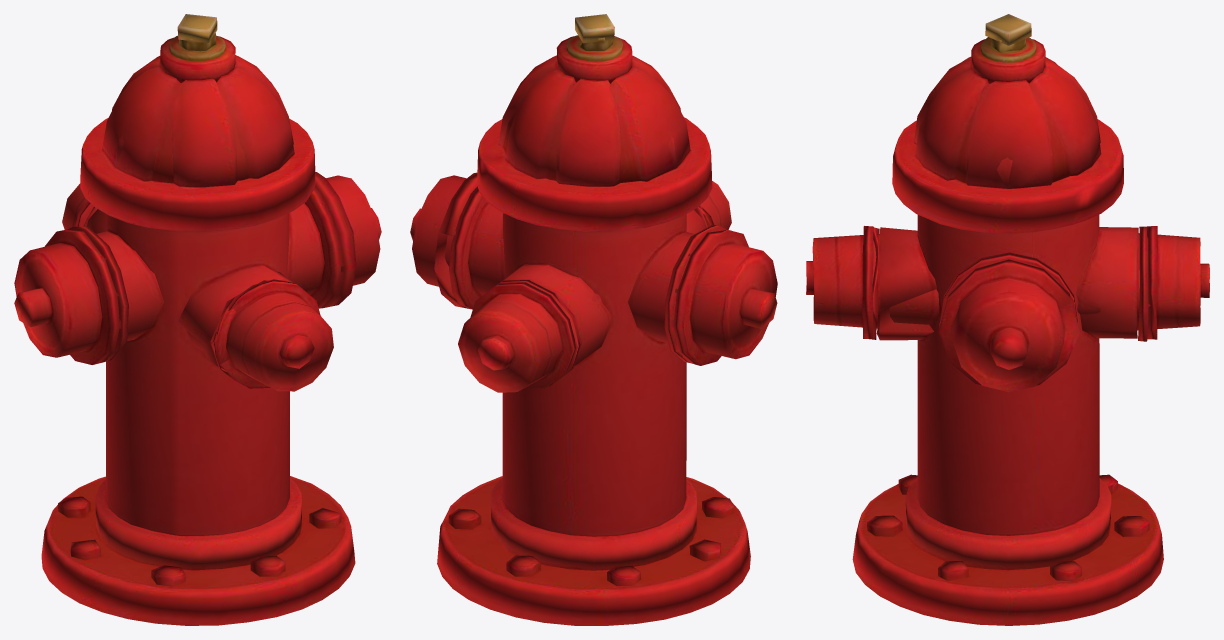
File: fire-hydrant.glb
3 views of the same model, side by side, from view 1: azimuth 30°, elevation 25°; view 2: azimuth 150°, elevation 25°; view 3: azimuth 270°, elevation 25° (orthographic).
Visible parts, largest first — view 1: fire-hydrant; view 2: fire-hydrant; view 3: fire-hydrant.
Part boxes in pixels (x1,y1,x2,y2): fire-hydrant: [14, 14, 381, 625]; fire-hydrant: [410, 14, 777, 625]; fire-hydrant: [806, 14, 1209, 625].
Size of the model in its own units: 0.5763 by 0.85 by 0.5812.
1 material, 1 textured.
